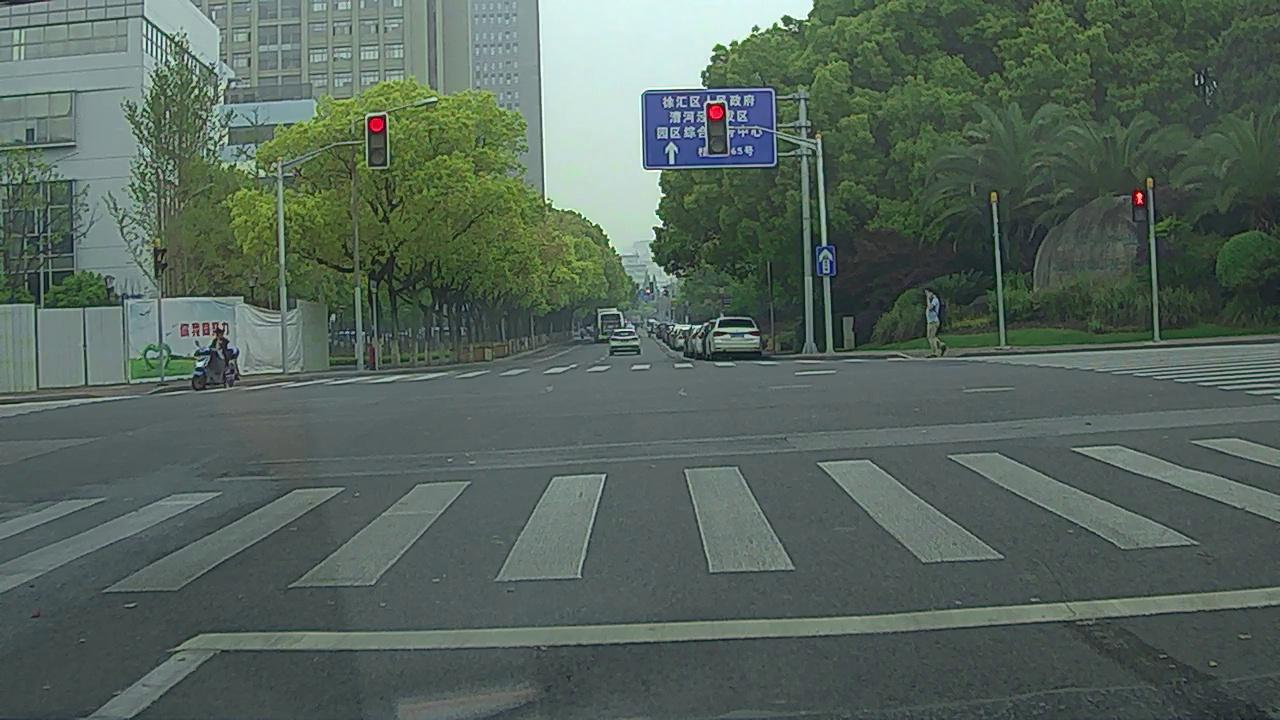traffic_light: (708, 105, 729, 155), (368, 115, 386, 167)
